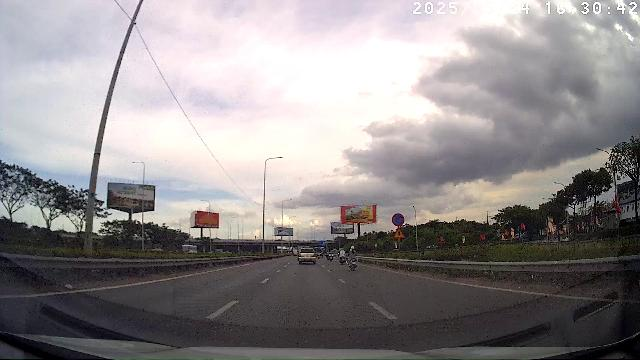130-cam-dung-va-do-xe: (392, 213, 404, 227)
